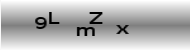9: (33, 16, 48, 30)
L: (47, 11, 62, 25)
Z: (88, 10, 103, 25)
m: (74, 26, 97, 37)
x: (115, 23, 130, 36)
